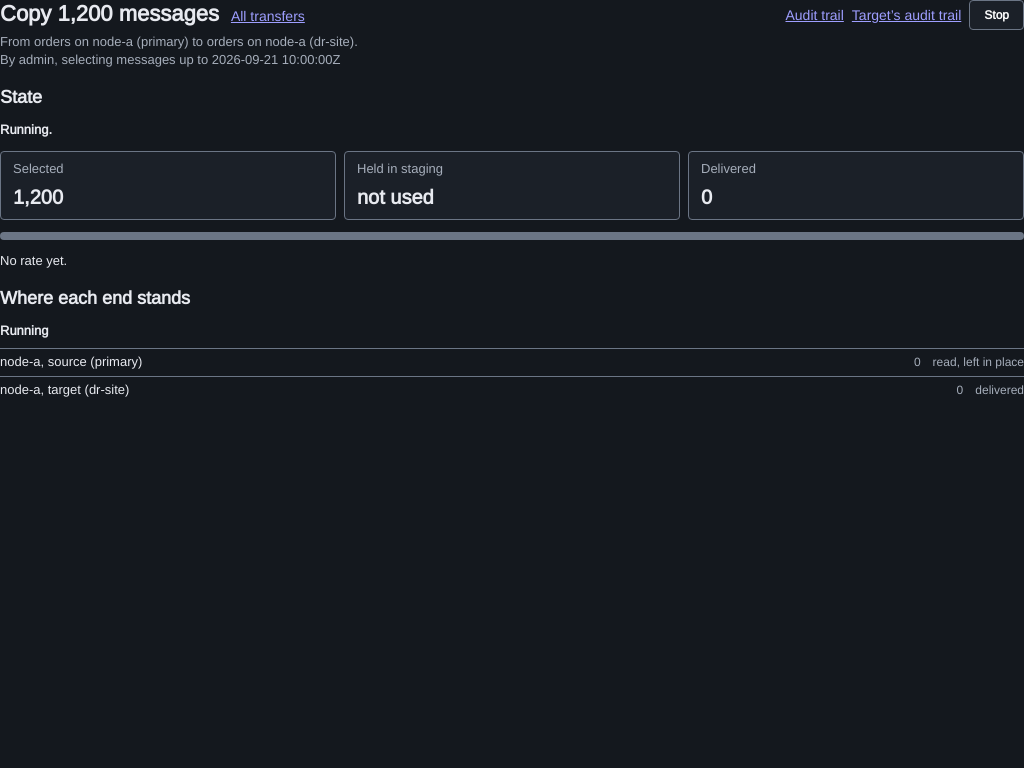
it: TransferRunView commands › keeps running when the stop dialog is dismissed, and words a copy without staging
Click the button "Stop" at point(997, 15), box [969,0,1023,30]
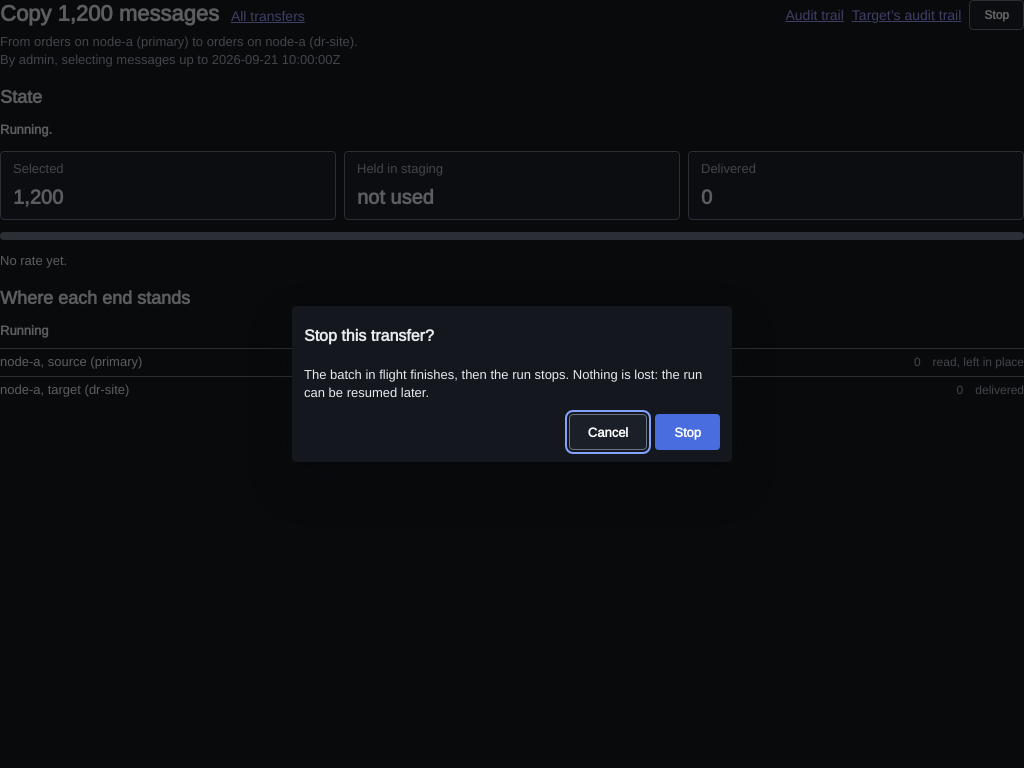
Expected: the dialog "Stop this transfer?" does not show "staging", [292,306,732,462]
Expected: the dialog "Stop this transfer?" shows "Nothing is lost: the run can be resumed later.", [292,306,732,462]
Click the button "Cancel" at point(608, 432), box [569,414,647,450]
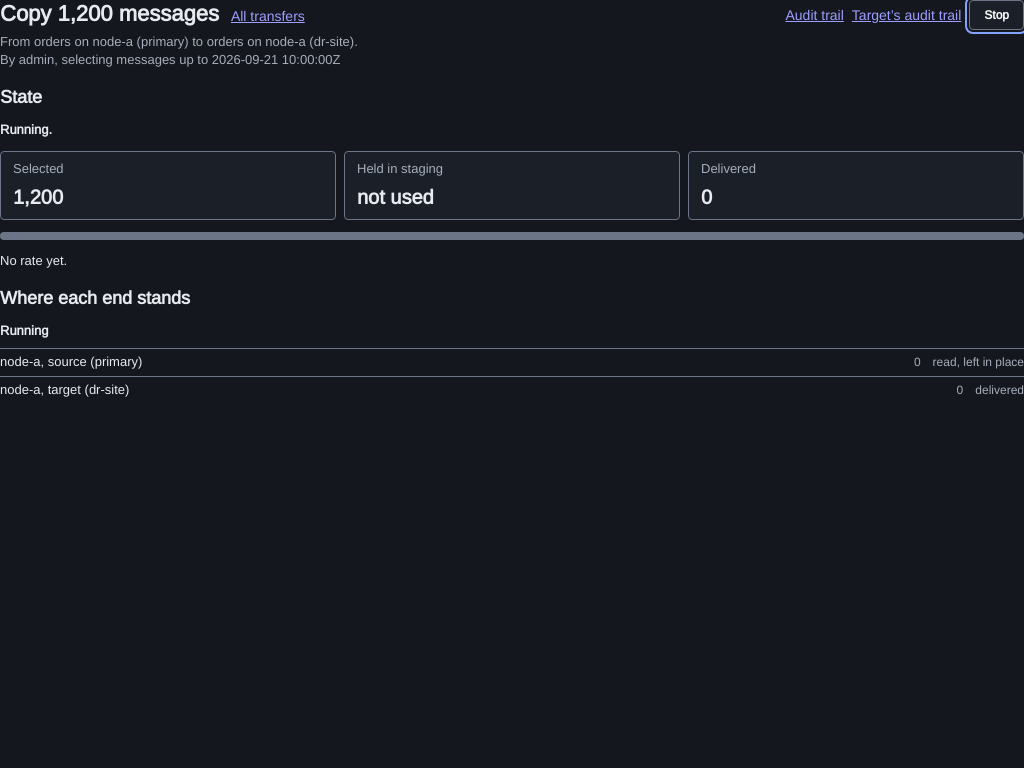
Expected: the dialog is gone
